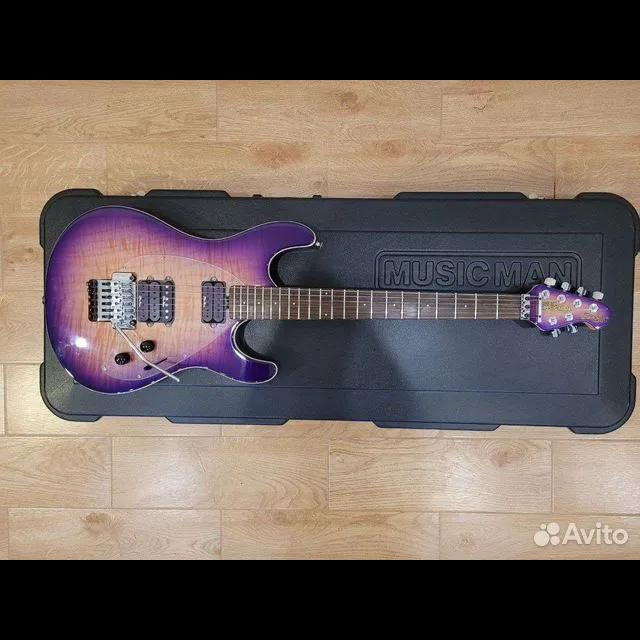Electric-Guitar: (44, 207, 608, 393)
